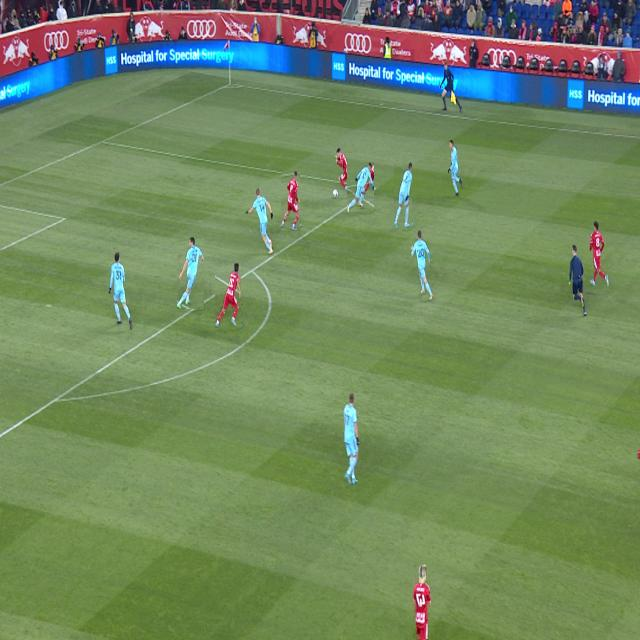football: (334, 190, 337, 198)
player: (177, 238, 204, 309), (245, 188, 273, 254), (109, 252, 132, 330), (411, 230, 434, 300), (216, 264, 241, 328), (344, 393, 359, 485), (413, 564, 431, 640), (347, 163, 374, 213), (589, 221, 609, 287), (395, 163, 412, 229), (282, 172, 300, 231), (335, 148, 356, 193), (448, 140, 463, 196)
referee: (568, 245, 587, 315)
